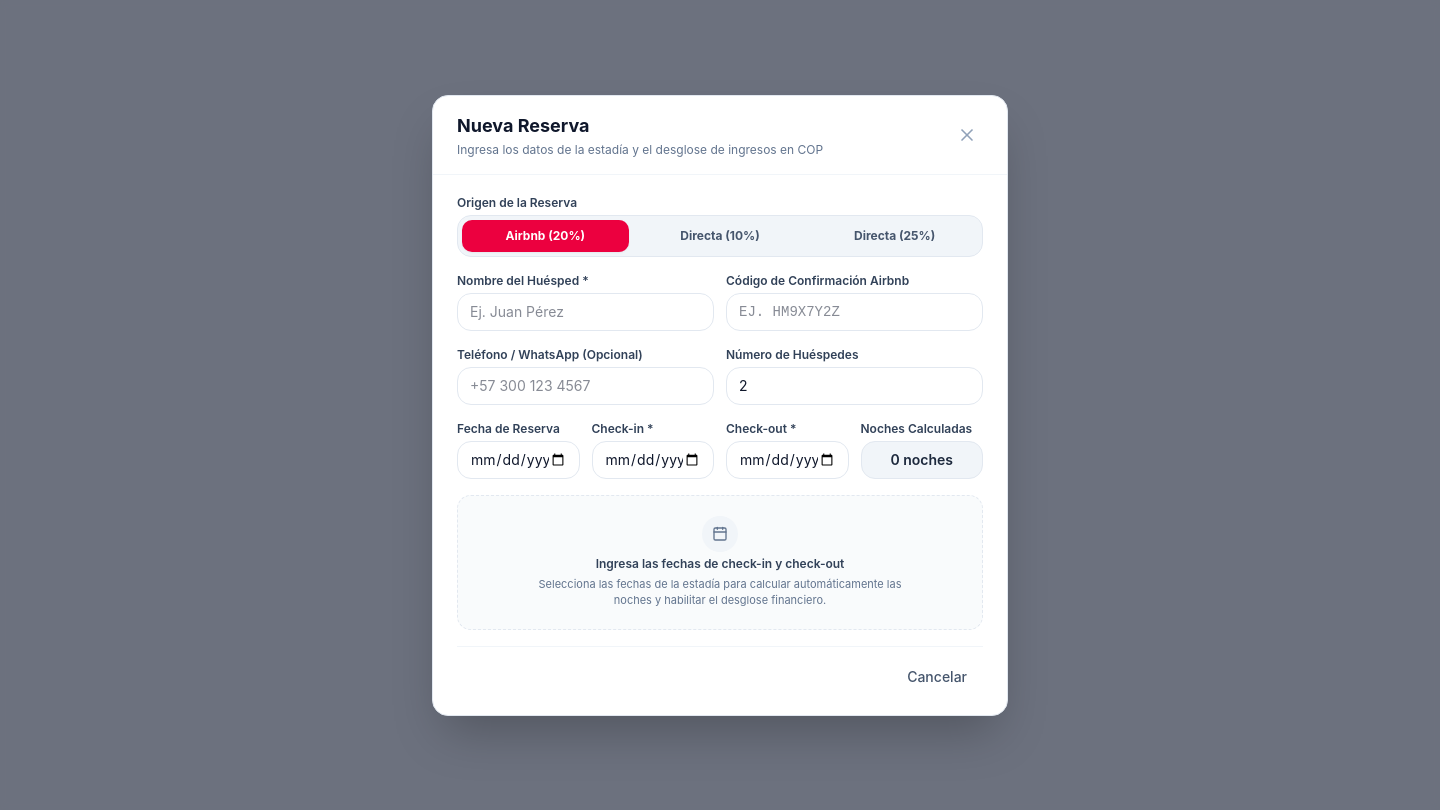
Test: BookingModal Component › hides desglose and lower form sections until check-in and check-out dates are entered
expect the field labelled "Estado de la Estadía" is not shown: met
expect the field labelled "Notas u Observaciones" is not shown: met
// Fill only check-in: still hidden
Type "2026-11-01" into the date field labelled "Check-in *" at (653, 460), box [592,440,714,478]
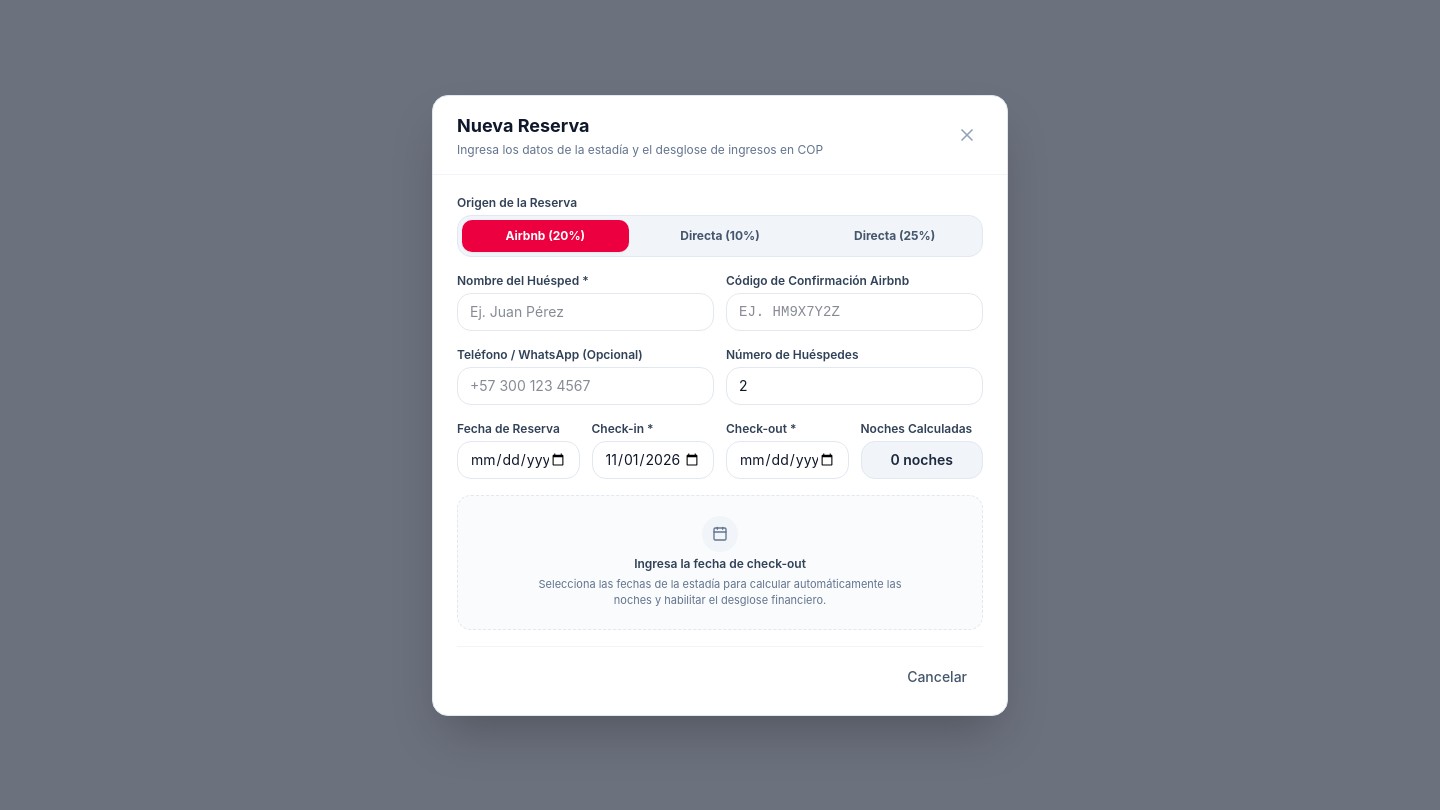
expect the text "Ingresa la fecha de check-out" is shown: met, box [634,556,806,570]
Type "2026-11-01" into the date field labelled "Check-out *" at (787, 460), box [726,440,848,478]
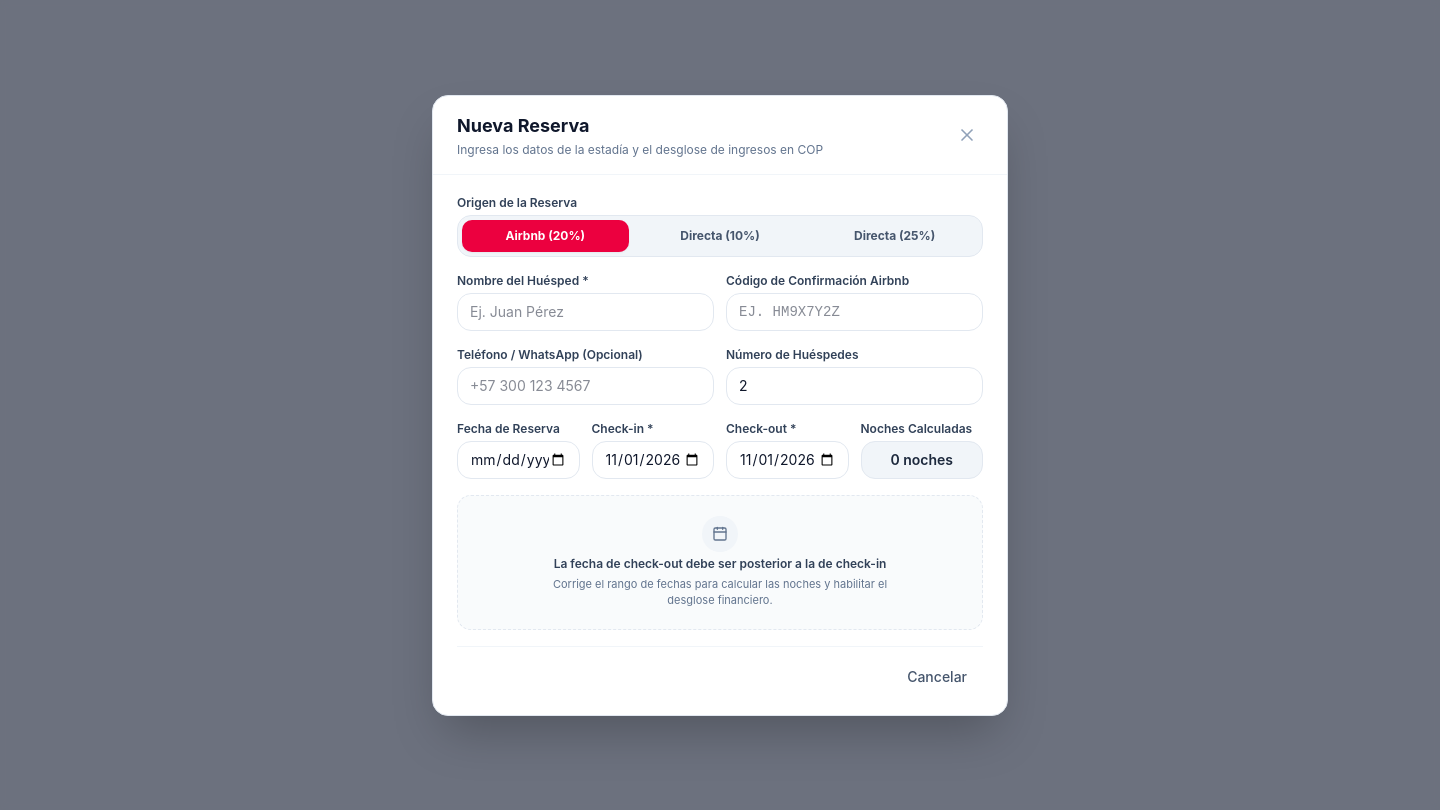
expect the text "La fecha de check-out debe ser posterior a la de check-in" is shown: met, box [554,556,886,570]
// Fill valid check-out: breakdown and lower sections appear
Type "2026-11-04" into the date field labelled "Check-out *" at (787, 460), box [726,440,848,478]
(page scrolled)
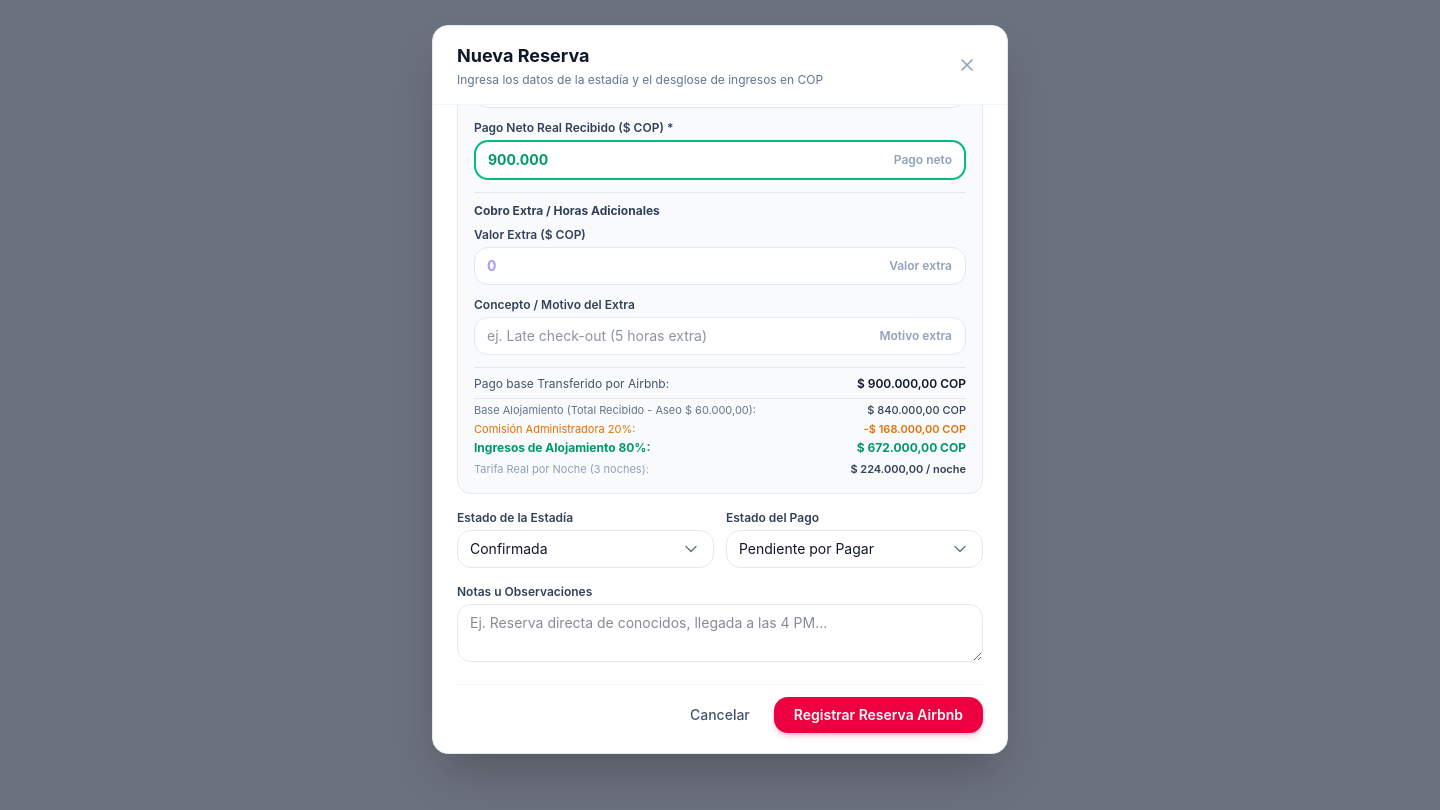
expect the dropdown labelled "Estado de la Estadía" is shown: met, box [457,530,714,568]
expect the text box labelled "Notas u Observaciones" is shown: met, box [457,604,983,662]
expect the button "Registrar Reserva Airbnb" is shown: met, box [774,697,983,733]
